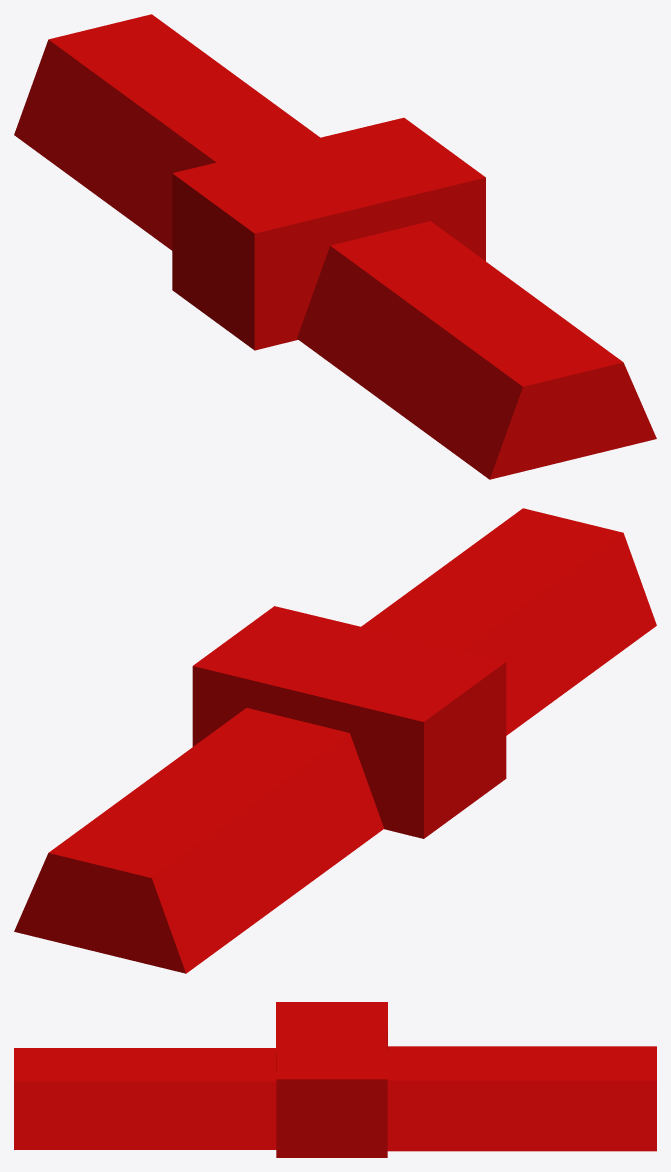
File: Traning.FBX
3 views of the same model, one above another, from view 1: azimuth 30°, elevation 25°; view 2: azimuth 150°, elevation 25°; view 3: azimuth 270°, elevation 25° (orthographic). The views are drawn at different scales.
Parts seen in each view (by area): view 1: Traningroom; view 2: Traningroom; view 3: Traningroom.
Part boxes in pixels (box(x1,y1,x2,y2)): Traningroom: box(14, 14, 656, 479); Traningroom: box(14, 508, 656, 973); Traningroom: box(14, 1002, 656, 1157).
Size of the model in its own units: 1539 by 742 by 5445.
